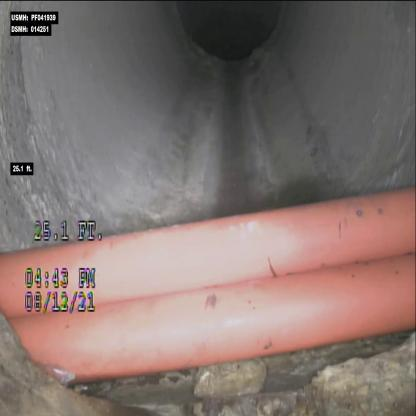utits: (105, 170, 416, 398)
